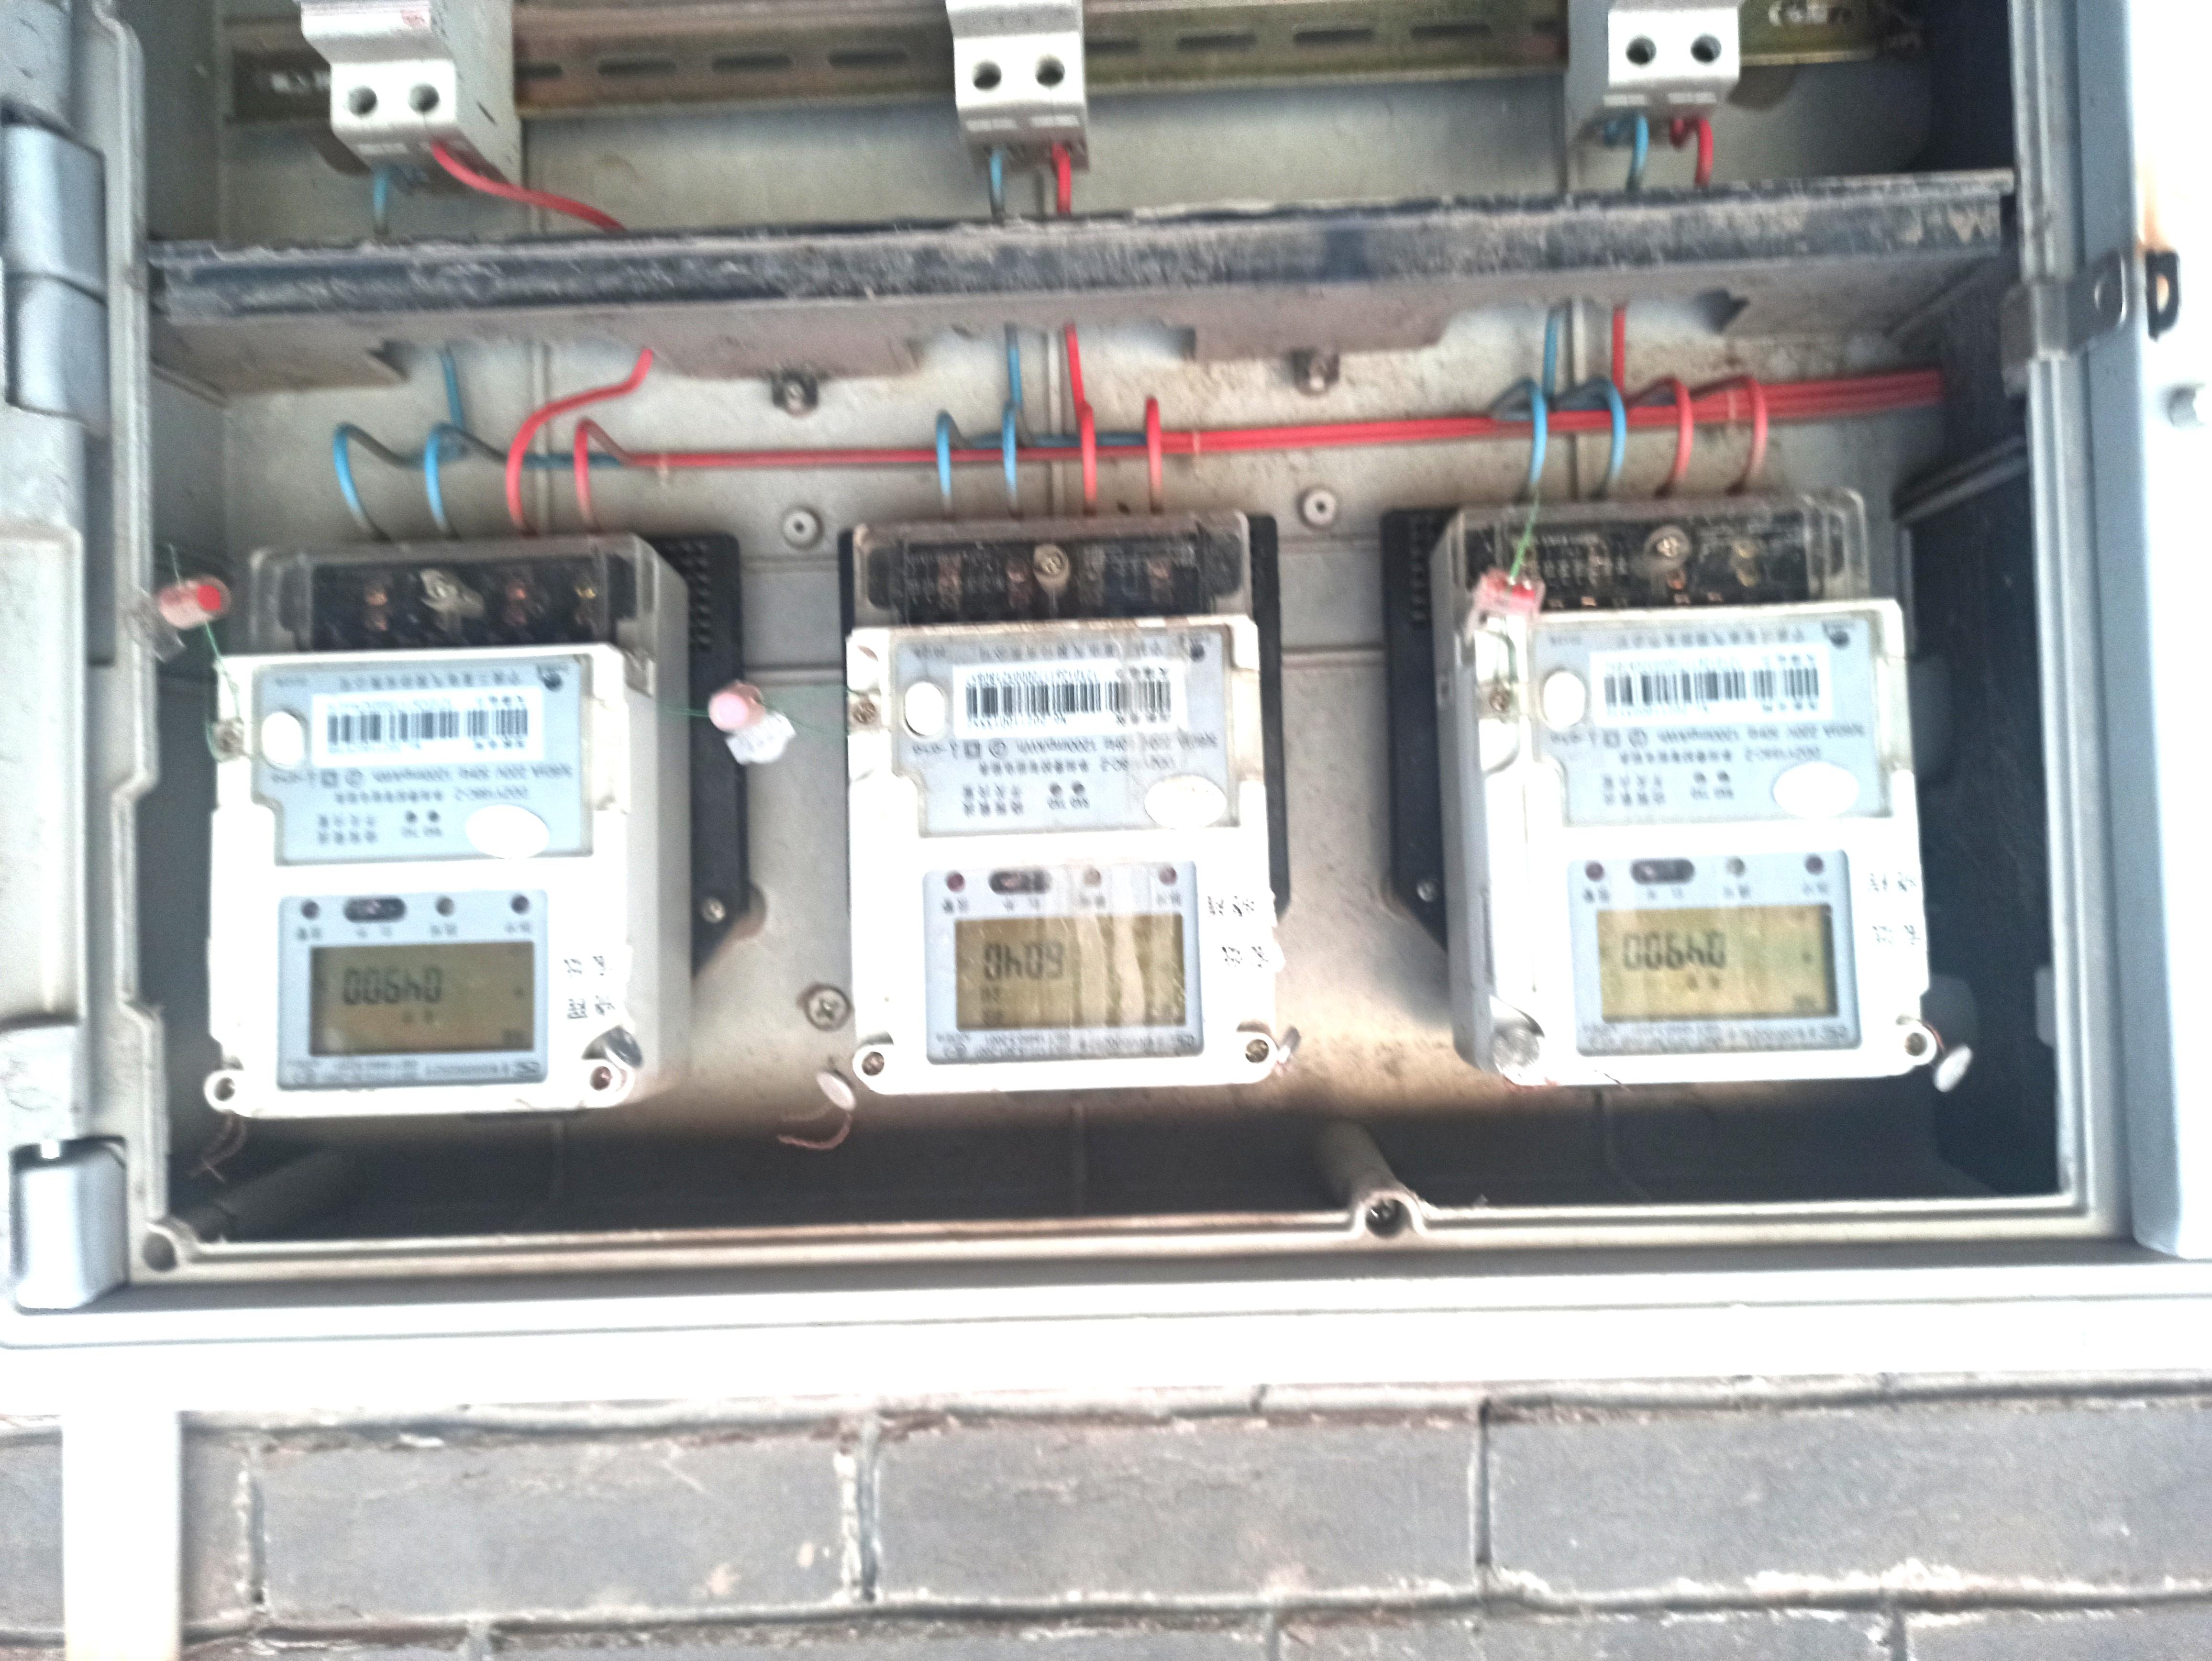digital: (1478, 604, 1933, 1085), (846, 616, 1275, 1089), (208, 649, 632, 1118)
